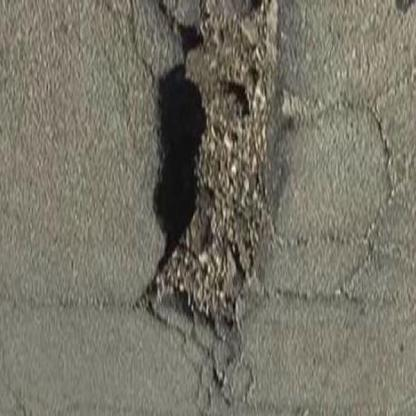pothole: (133, 3, 285, 351)
